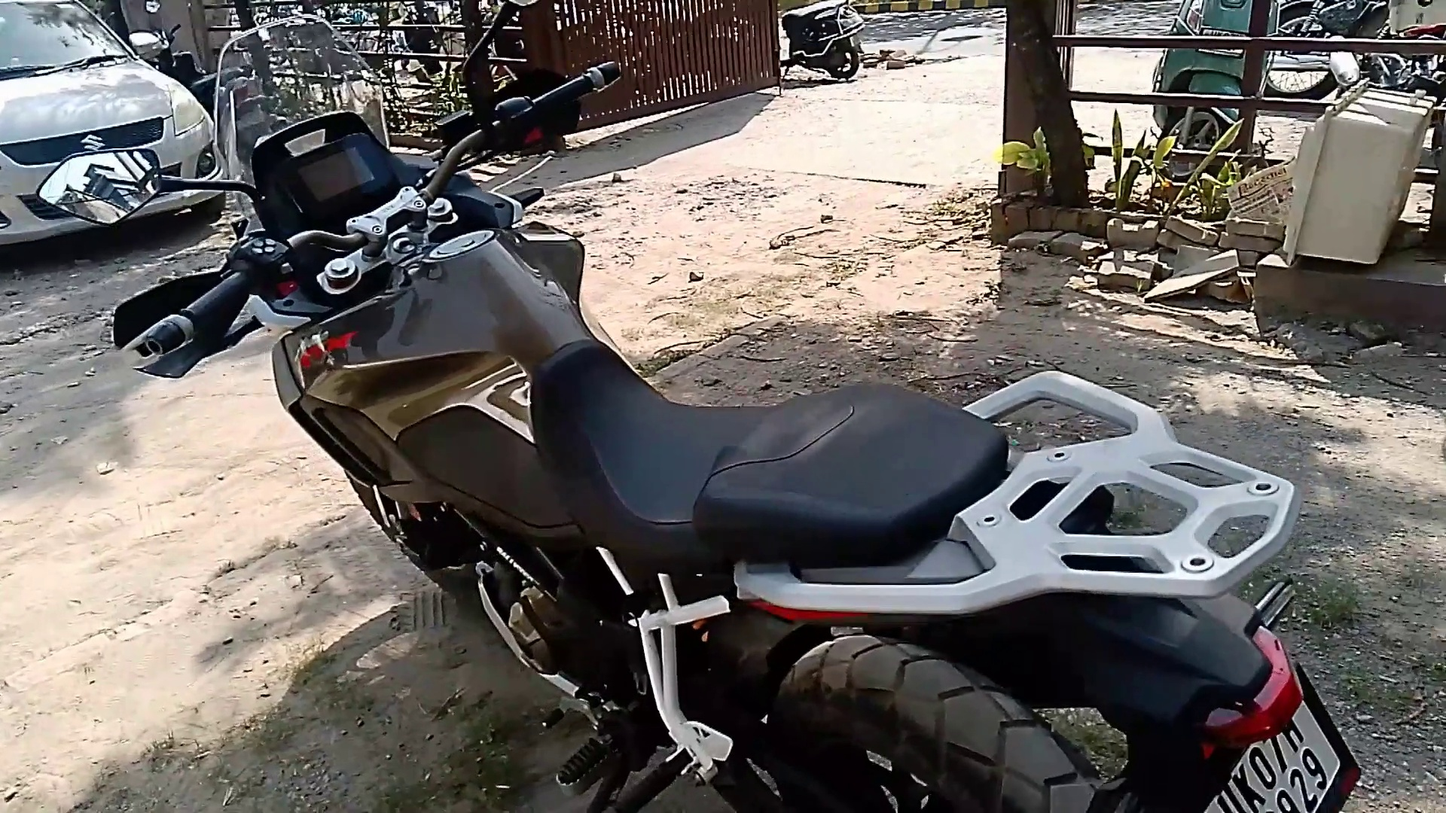engine: (478, 534, 576, 700)
